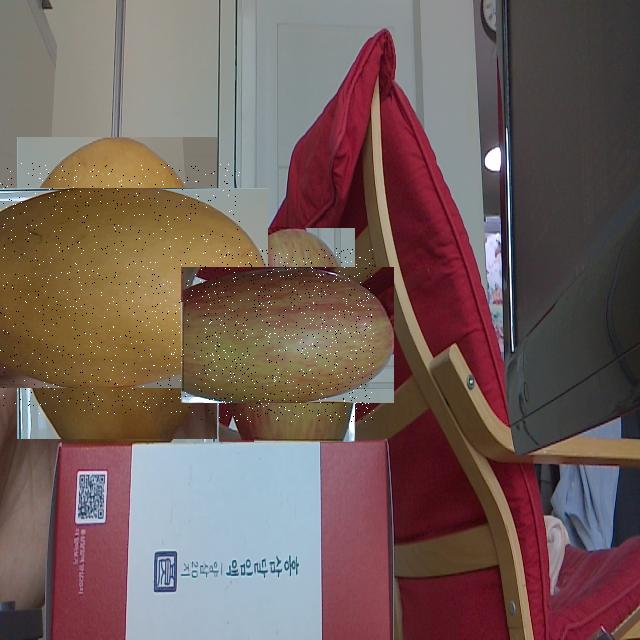apple: (200, 248, 374, 422)
pear: (0, 163, 242, 414)
